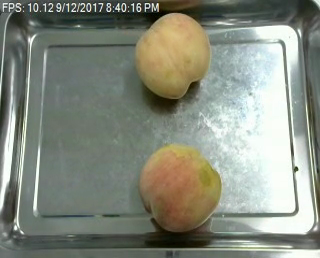Peach: (137, 142, 222, 232), (135, 11, 212, 98)
